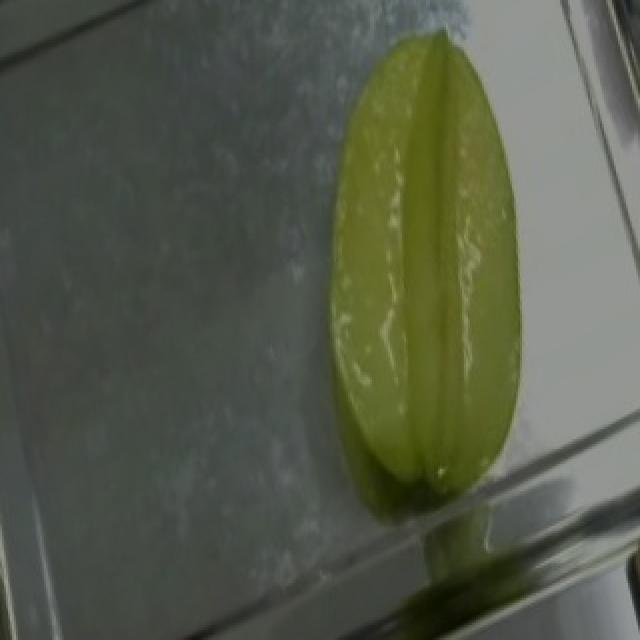fruit: (282, 10, 592, 414)
